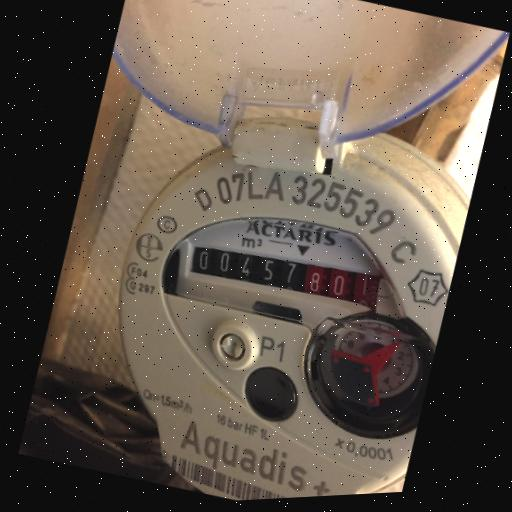0: (321, 264, 358, 303), (208, 246, 241, 282), (187, 243, 219, 278)
1: (347, 268, 383, 312)
4: (231, 249, 262, 286)
5: (250, 252, 284, 290)
7: (274, 256, 311, 295)
8: (300, 261, 331, 298)
border_water_meter_number: (177, 221, 386, 336)
